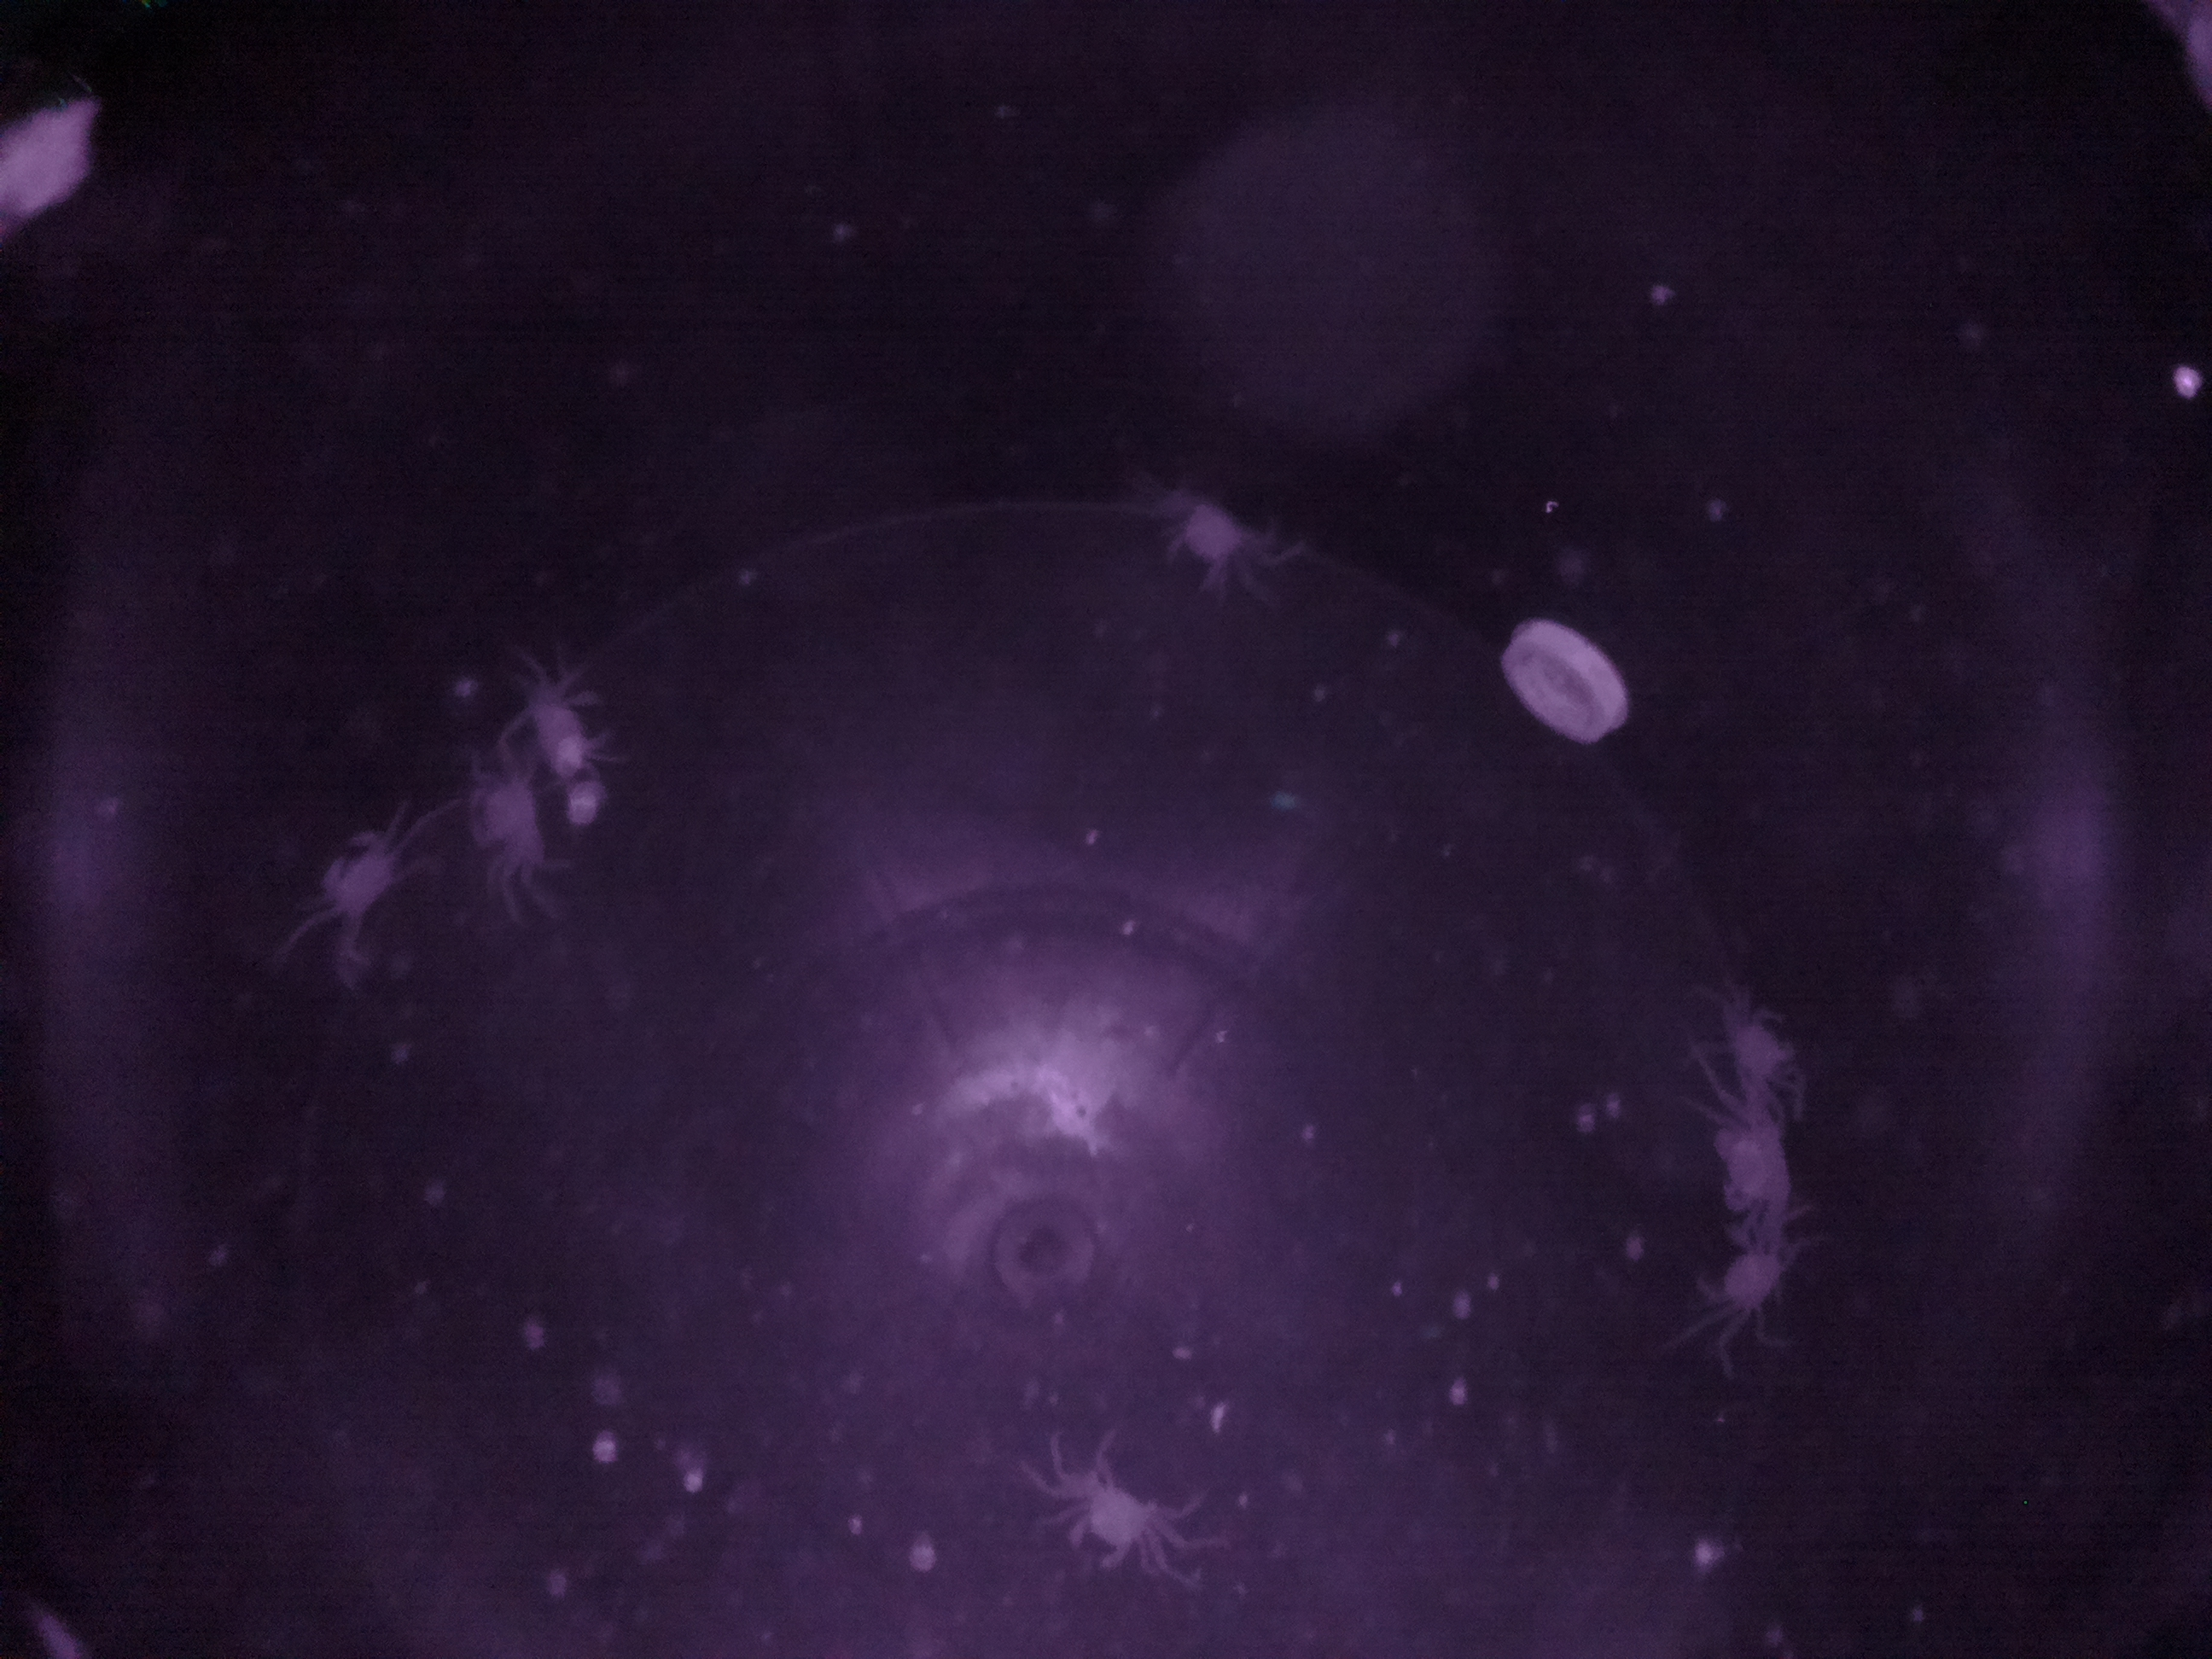Crab: (1054, 1450, 1179, 1588)
